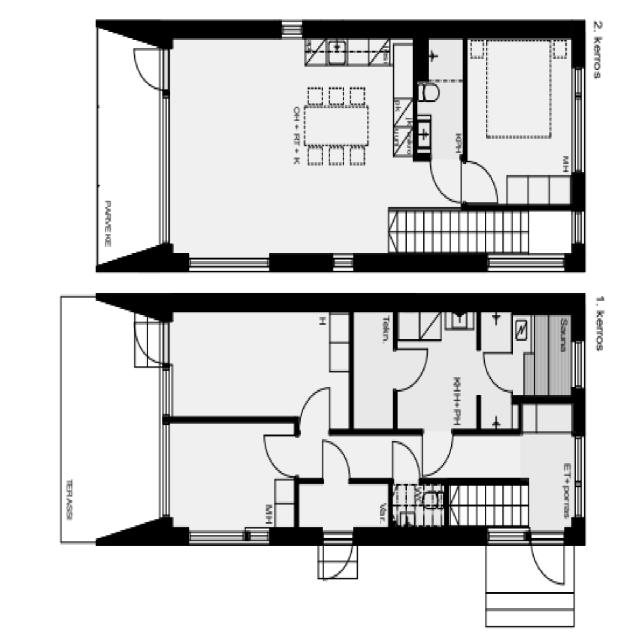door: (300, 478, 389, 527), (527, 525, 569, 587), (259, 430, 303, 482), (131, 41, 173, 93), (132, 318, 173, 369), (458, 155, 497, 206), (393, 341, 428, 392), (320, 530, 353, 584), (422, 431, 457, 481), (428, 158, 465, 205), (387, 440, 420, 484), (297, 387, 330, 427), (482, 348, 512, 392), (320, 440, 350, 482)
window: (480, 252, 566, 274), (158, 93, 170, 242), (570, 72, 588, 167), (184, 527, 272, 545), (158, 421, 172, 519), (187, 254, 270, 269), (482, 521, 527, 545), (329, 247, 366, 276), (574, 440, 585, 535), (272, 18, 308, 41), (155, 372, 172, 416), (572, 340, 582, 389), (572, 212, 581, 245)
zone: (165, 35, 414, 259), (162, 312, 352, 429), (468, 40, 574, 204), (396, 310, 479, 431), (512, 306, 576, 398), (416, 43, 467, 156), (352, 310, 397, 431)
